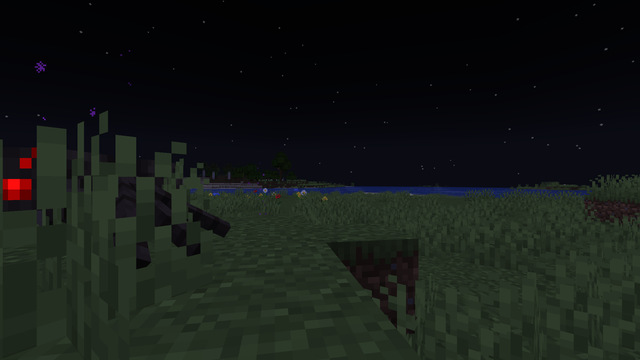araignees: (5, 132, 204, 284)
